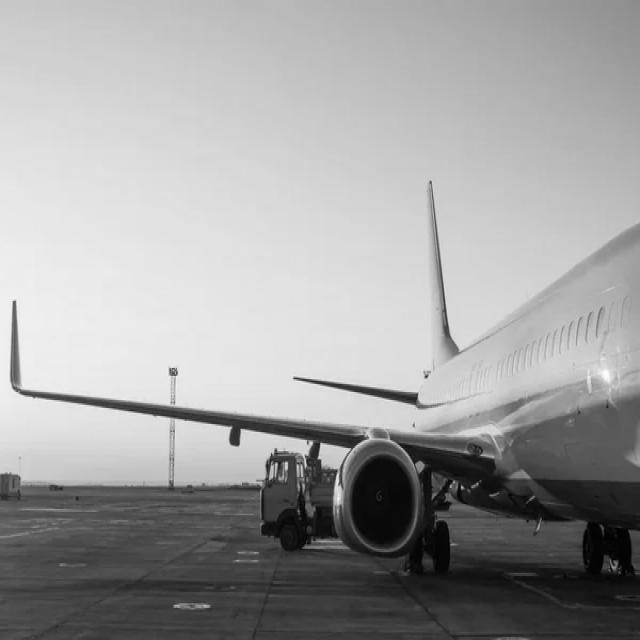Aircraft: (6, 192, 640, 578)
